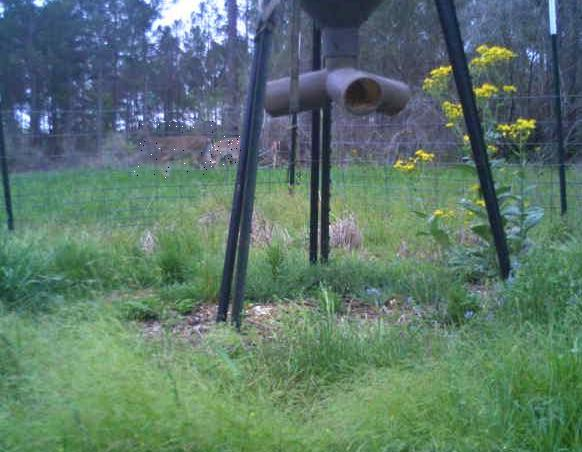Deer: (133, 122, 215, 181), (211, 136, 241, 169)
